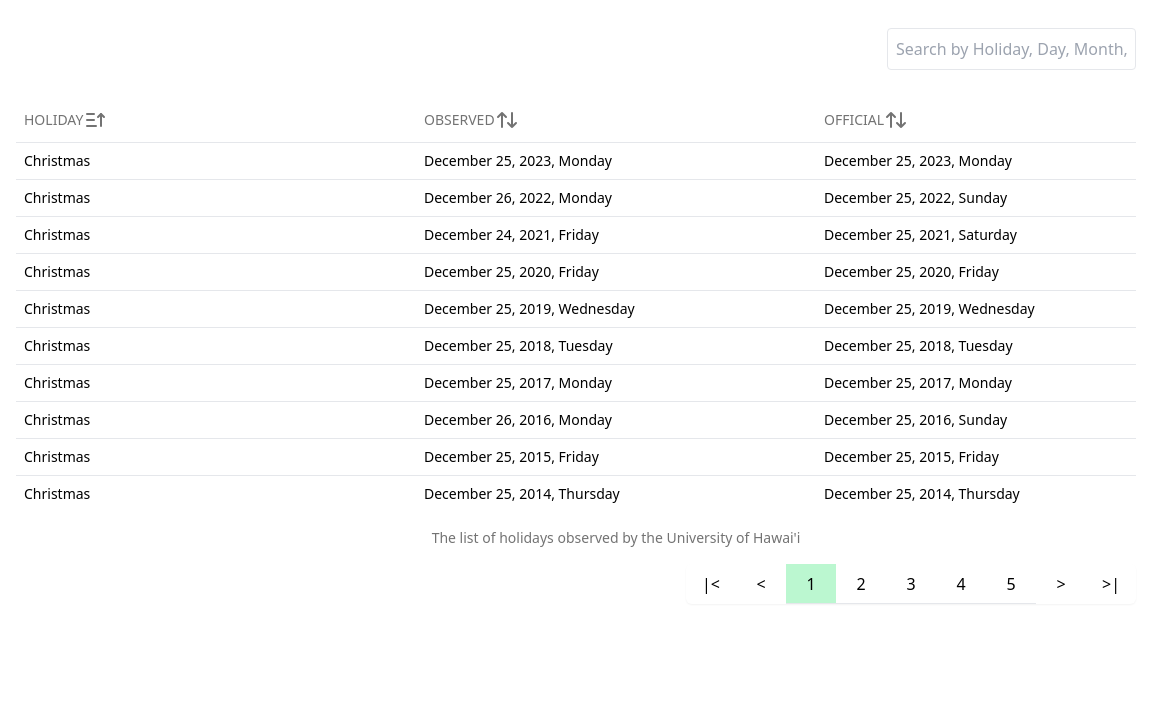
Scenario: Filter › Table sorts correctly with input text.
This screenshot has width=1152, height=720.
Step 1. Type "Discoverer" into the field → [1012, 49], box [887,28,1136,70]
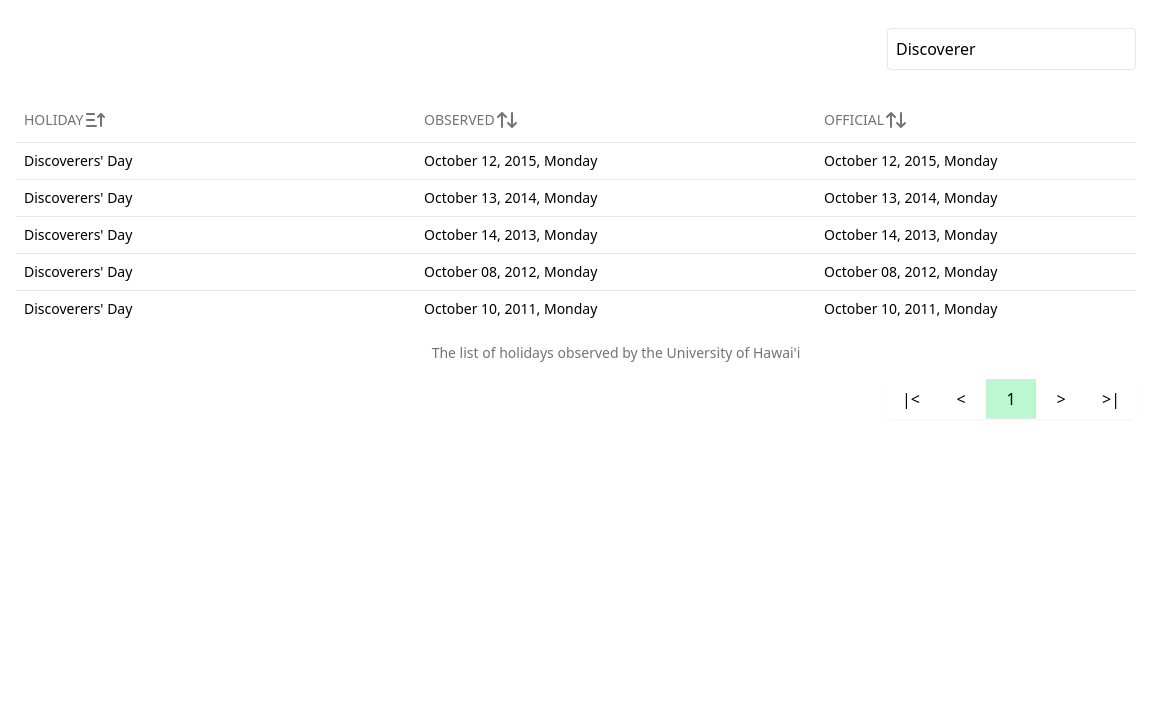
Expected: the 1st text "Discoverers' Day" is shown, [16,142,416,180]
